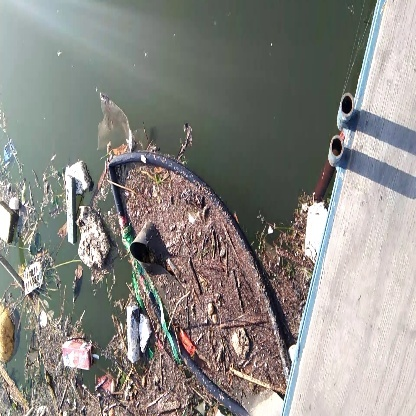milk-box: (57, 333, 102, 374)
